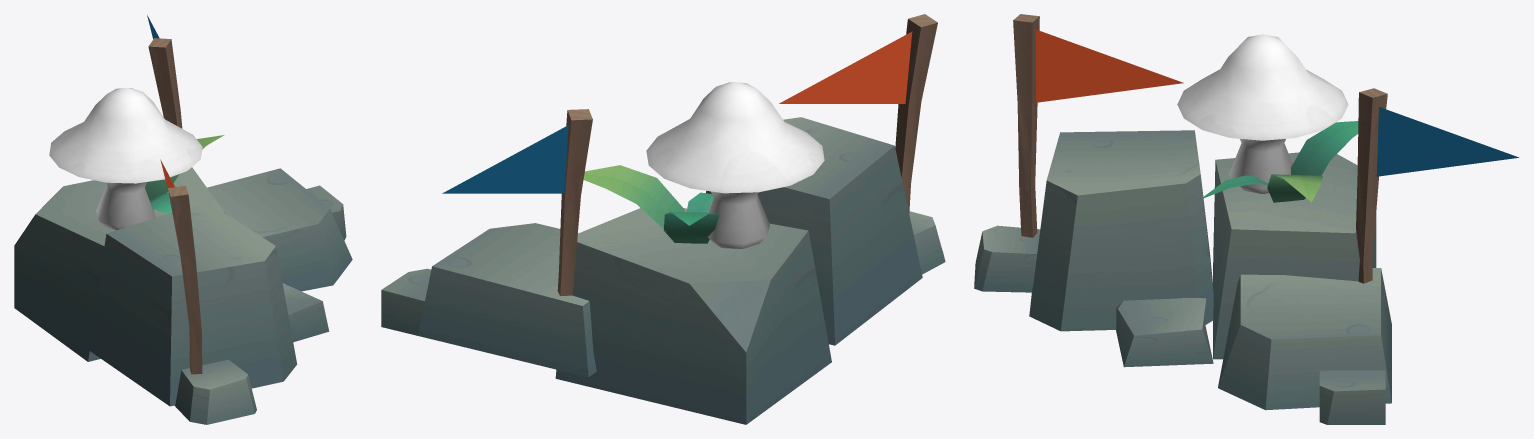
Rendered from WallCorner-002_40_14_3643.fbx.
The picture shows the model from 3 angles, left to right: view 1: azimuth 30°, elevation 25°; view 2: azimuth 150°, elevation 25°; view 3: azimuth 270°, elevation 25°; orthographic projection. The views are drawn at different scales.
Visible parts, largest first — view 1: Corner2, Wood1.002 (1) (×2); view 2: Corner2, Flag1.001 (1) (×2), Wood1.002 (1) (×2); view 3: Corner2, Flag1.001 (1) (×2), Wood1.002 (1) (×2).
Boxes of the visible parts, bbox=[...] form: Corner2: bbox=[14, 87, 352, 424]; Wood1.002 (1) (×2): bbox=[148, 38, 202, 374]; Corner2: bbox=[381, 82, 945, 424]; Flag1.001 (1) (×2): bbox=[442, 31, 912, 193]; Wood1.002 (1) (×2): bbox=[557, 14, 937, 295]; Corner2: bbox=[974, 34, 1391, 424]; Flag1.001 (1) (×2): bbox=[1035, 29, 1518, 176]; Wood1.002 (1) (×2): bbox=[1013, 14, 1387, 283].
Size of the model in its own units: 3.19 by 2.35 by 4.31.
